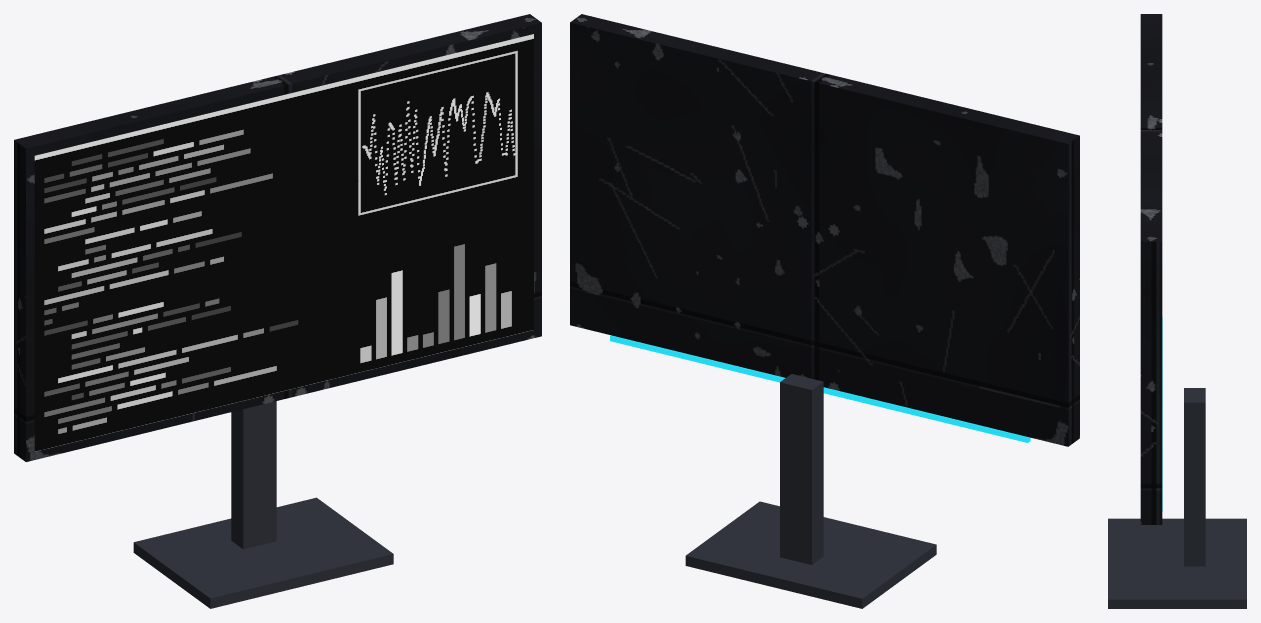
The model's file is Tech_Monitor.gltf.
3 renders of one model, left to right at view 1: azimuth 30°, elevation 25°; view 2: azimuth 150°, elevation 25°; view 3: azimuth 270°, elevation 25°, orthographic. The views are drawn at different scales.
Parts seen in each view (by area): view 1: Tech_Monitor; view 2: Tech_Monitor; view 3: Tech_Monitor.
Boxes of the visible parts, box(x1,y1,x2,y2) form: Tech_Monitor: box(14, 14, 541, 608); Tech_Monitor: box(570, 14, 1079, 608); Tech_Monitor: box(1108, 14, 1246, 608).
Bounding box in the file's own units: 0.62 × 0.56 × 0.16.
Materials: 4 (2 with a texture image).
